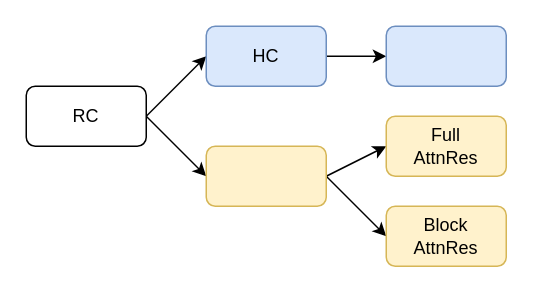
Image size: 533x293. Some labels were removed from this diagram. The shapes that lost their labels are listed below. From the top down, each one's centre as x and y in pixels, then its label:
At (445,55): "mHC".
At (265,175): "AttnRes".
